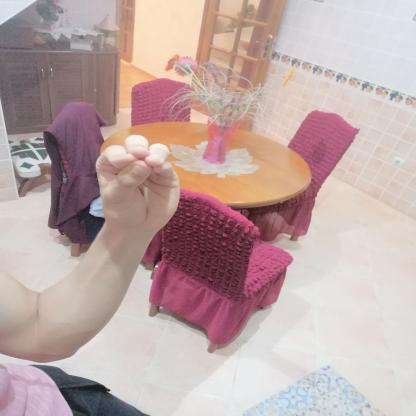HA: (82, 128, 196, 241)
